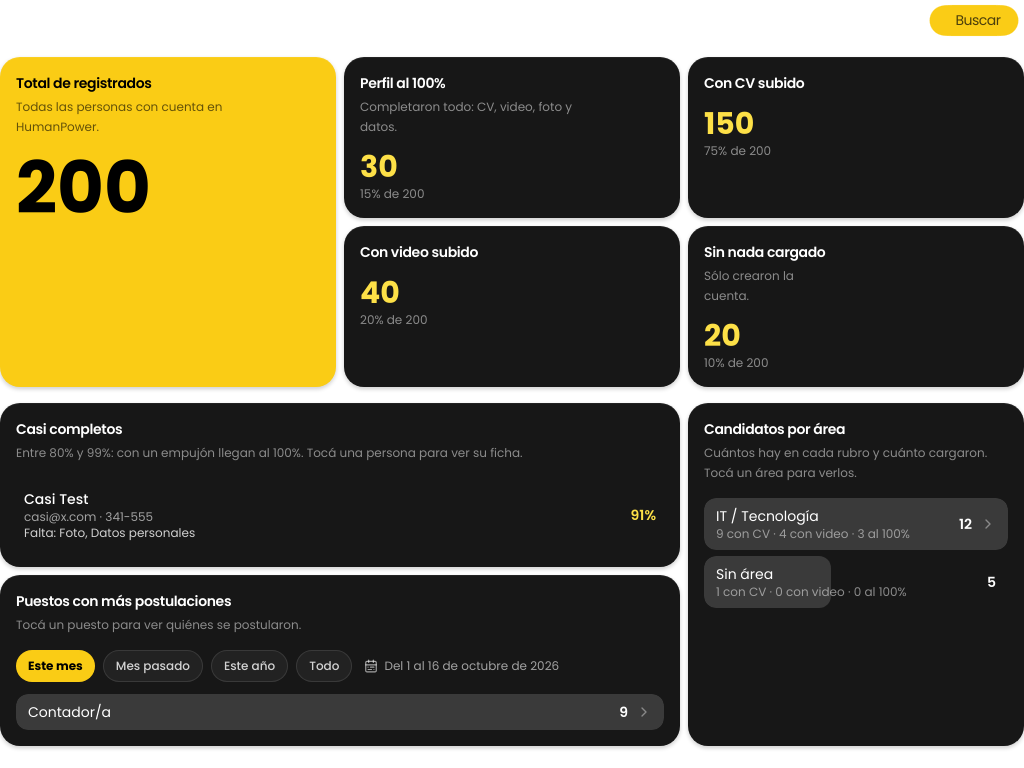
Scenario: Resumen · tarjetas de candidatos › «Sin nada cargado» muestra quiénes son, con email
The image size is (1024, 768).
Click the button "Sin nada cargado Sólo crearon la cuenta. 20 10% de 200": (765, 252) top-left (688, 226), bottom-right (1023, 387)
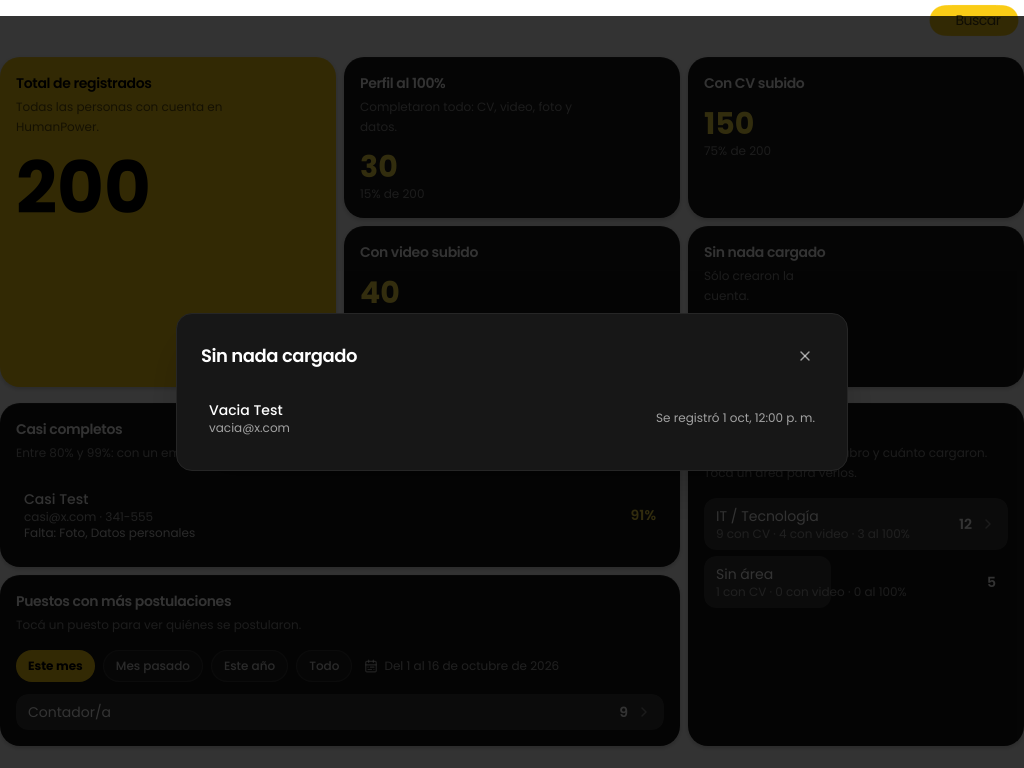
Now the text "Vacia Test" is shown, box top-left (209, 400), bottom-right (290, 420)
Now the text "vacia@x.com" is shown, box top-left (209, 420), bottom-right (290, 436)
